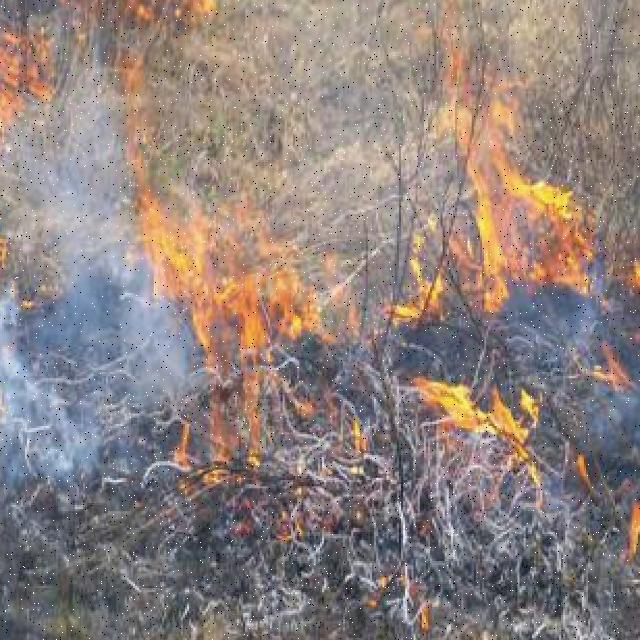fire: (436, 40, 590, 312), (206, 222, 320, 470), (125, 85, 208, 335), (420, 351, 550, 493)
smoke: (0, 88, 202, 466)
